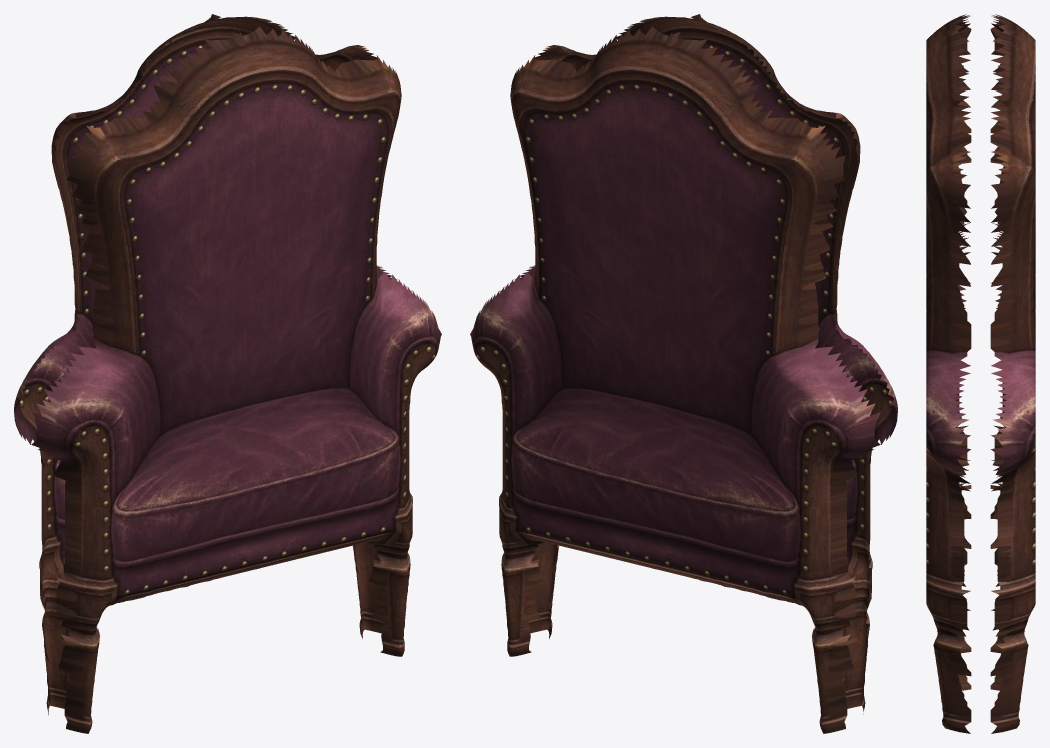
Rendered from v4-arcane-emporium-scatter-dress-reading-chair.glb.
3 views of the same model, side by side, from view 1: azimuth 30°, elevation 25°; view 2: azimuth 150°, elevation 25°; view 3: azimuth 270°, elevation 25° (orthographic). The views are drawn at different scales.
Visible parts, largest first — view 1: v4-arcane-emporium-scatter-dress-reading-chair; view 2: v4-arcane-emporium-scatter-dress-reading-chair; view 3: v4-arcane-emporium-scatter-dress-reading-chair.
Part boxes in pixels (left/top/right/bottom): v4-arcane-emporium-scatter-dress-reading-chair: left=14, top=14, right=441, bottom=733; v4-arcane-emporium-scatter-dress-reading-chair: left=470, top=14, right=897, bottom=733; v4-arcane-emporium-scatter-dress-reading-chair: left=926, top=14, right=1035, bottom=733.
Size of the model in its own units: 0.6401 by 0.9937 by 0.1566.
1 material, 1 textured.
